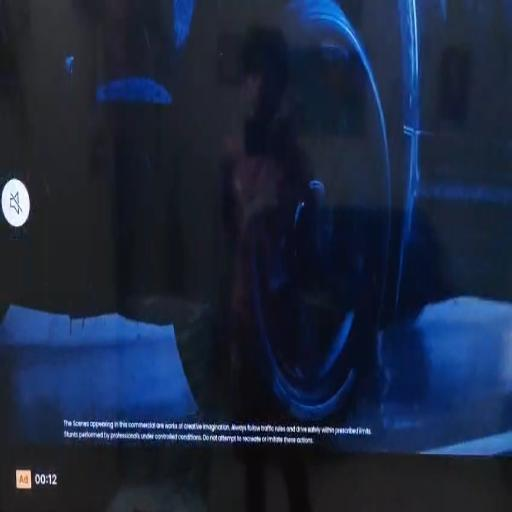ad label: (14, 468, 34, 492)
